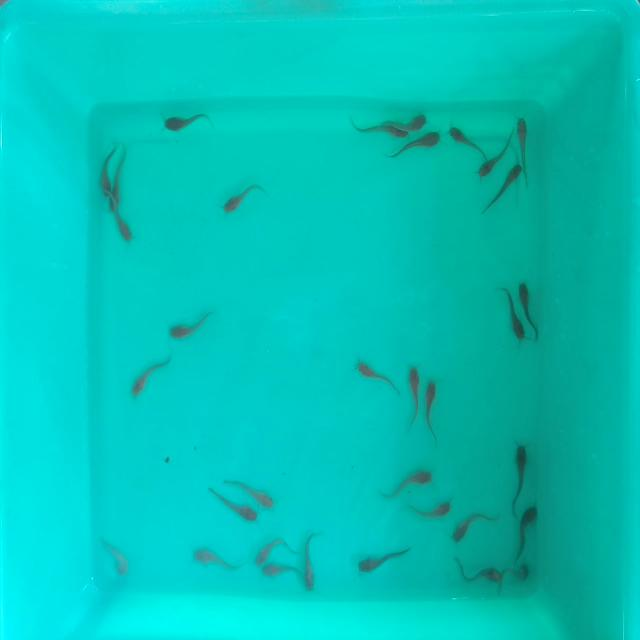lele: (204, 484, 260, 526), (227, 472, 279, 512), (127, 352, 168, 401), (387, 128, 445, 160), (499, 285, 530, 342), (352, 360, 401, 396), (170, 308, 219, 342), (363, 542, 414, 574), (223, 179, 268, 215), (518, 283, 544, 342), (98, 536, 134, 578), (379, 471, 432, 499), (190, 545, 238, 573), (454, 556, 502, 584), (494, 161, 522, 205), (516, 506, 538, 560), (110, 145, 128, 210), (165, 110, 212, 134), (251, 534, 285, 567), (454, 507, 486, 542), (448, 124, 490, 150), (353, 120, 410, 138), (478, 144, 508, 178), (512, 442, 528, 504), (305, 530, 320, 591), (424, 380, 438, 441), (406, 365, 419, 426), (501, 565, 534, 589), (406, 502, 452, 518), (99, 140, 112, 194), (516, 114, 530, 164), (115, 209, 132, 242), (260, 564, 300, 578), (406, 112, 430, 131)
